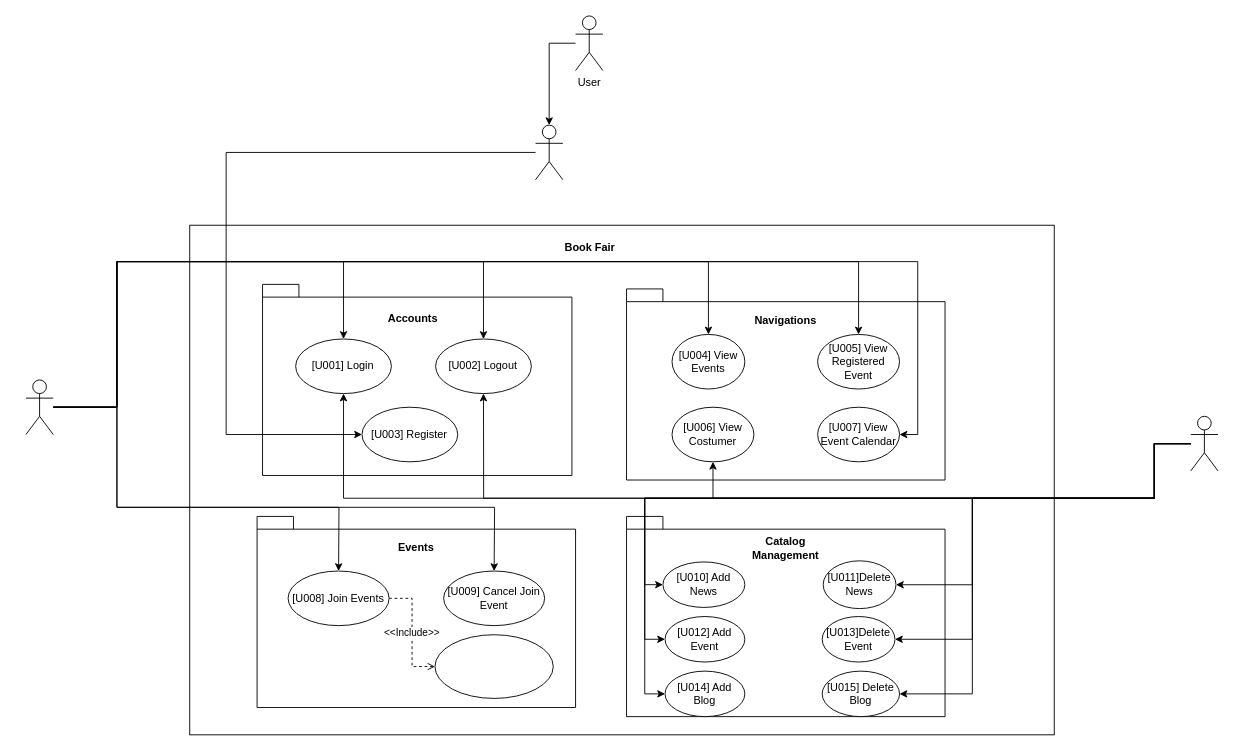
Some shapes in this 1235 by 751 pixel diagram are drawn without their labels. Here are the shapes that lost their labels. From the top down, the centre of each, then its label:
At (x=549, y=152): "Not Registered User".
At (x=39, y=407): "Customer".
At (x=1204, y=443): "Admin".
At (x=493, y=666): "[U016] Payment System".
